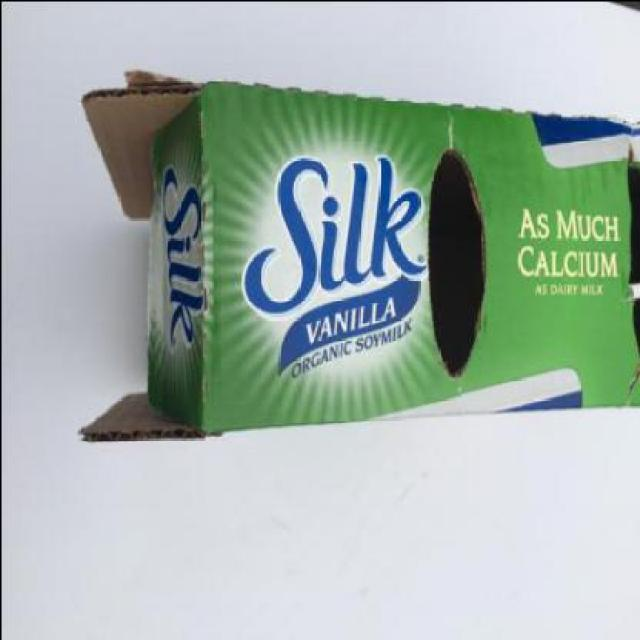CARDBOARD: (79, 70, 638, 444), (82, 68, 200, 218), (81, 393, 202, 442)
